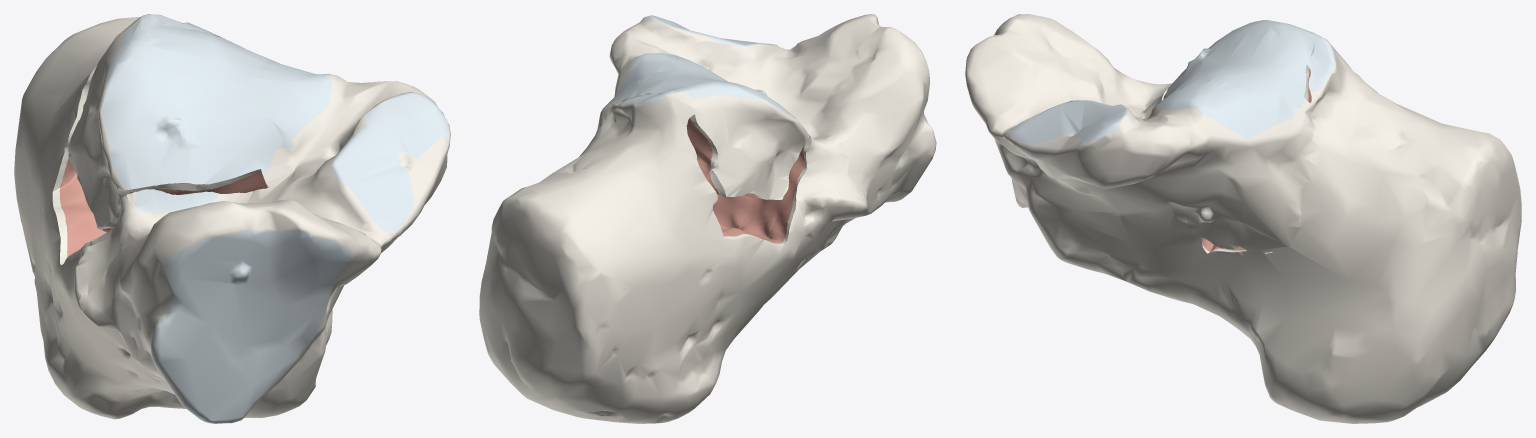
Rendered from S-IIIAB_young.glb.
3 views of the same model, side by side, from view 1: azimuth 30°, elevation 25°; view 2: azimuth 150°, elevation 25°; view 3: azimuth 270°, elevation 25° (orthographic). The views are drawn at different scales.
Parts seen in each view (by area): view 1: calcaneus: sustentacular fragment, calcaneus: tuberosity, calcaneus: lateral joint fragment, calcaneus: central joint fragment (depressed); view 2: calcaneus: tuberosity, calcaneus: sustentacular fragment, calcaneus: lateral joint fragment, calcaneus: central joint fragment (depressed); view 3: calcaneus: tuberosity, calcaneus: sustentacular fragment, calcaneus: central joint fragment (depressed), calcaneus: lateral joint fragment.
Boxes of the visible parts, x1,y1,x2,y2 form: calcaneus: sustentacular fragment: (79, 56, 450, 423); calcaneus: tuberosity: (14, 14, 332, 419); calcaneus: lateral joint fragment: (68, 28, 198, 231); calcaneus: central joint fragment (depressed): (126, 19, 292, 193); calcaneus: tuberosity: (479, 90, 866, 423); calcaneus: sustentacular fragment: (592, 14, 936, 249); calcaneus: lateral joint fragment: (686, 80, 809, 199); calcaneus: central joint fragment (depressed): (615, 65, 727, 103); calcaneus: tuberosity: (1103, 35, 1521, 423); calcaneus: sustentacular fragment: (965, 14, 1312, 281); calcaneus: central joint fragment (depressed): (1146, 29, 1317, 118); calcaneus: lateral joint fragment: (1166, 20, 1313, 92).
Size of the model in its own units: 0.0475 by 0.0513 by 0.0757.
